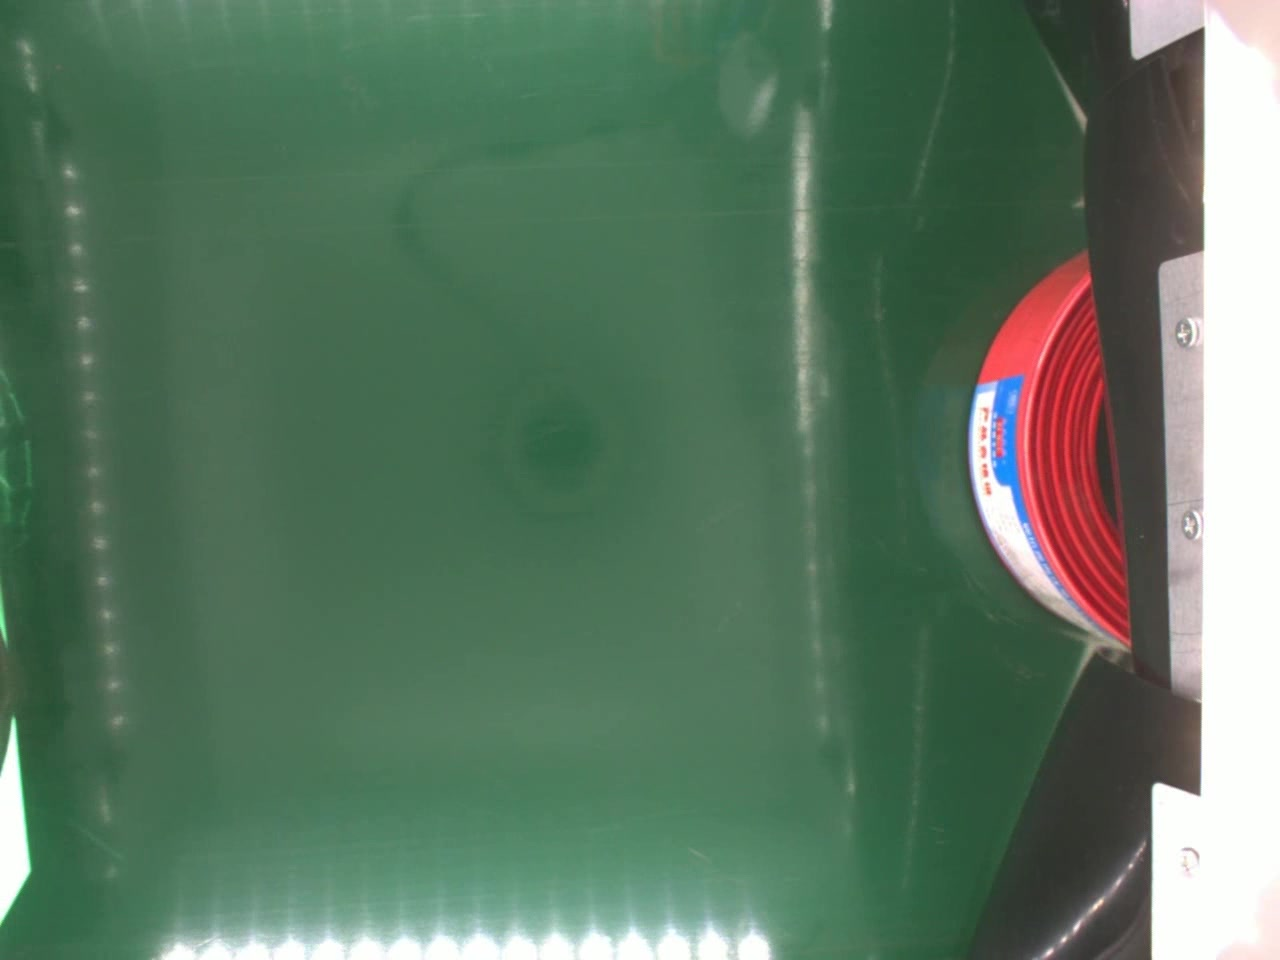red: (963, 243, 1134, 657)
